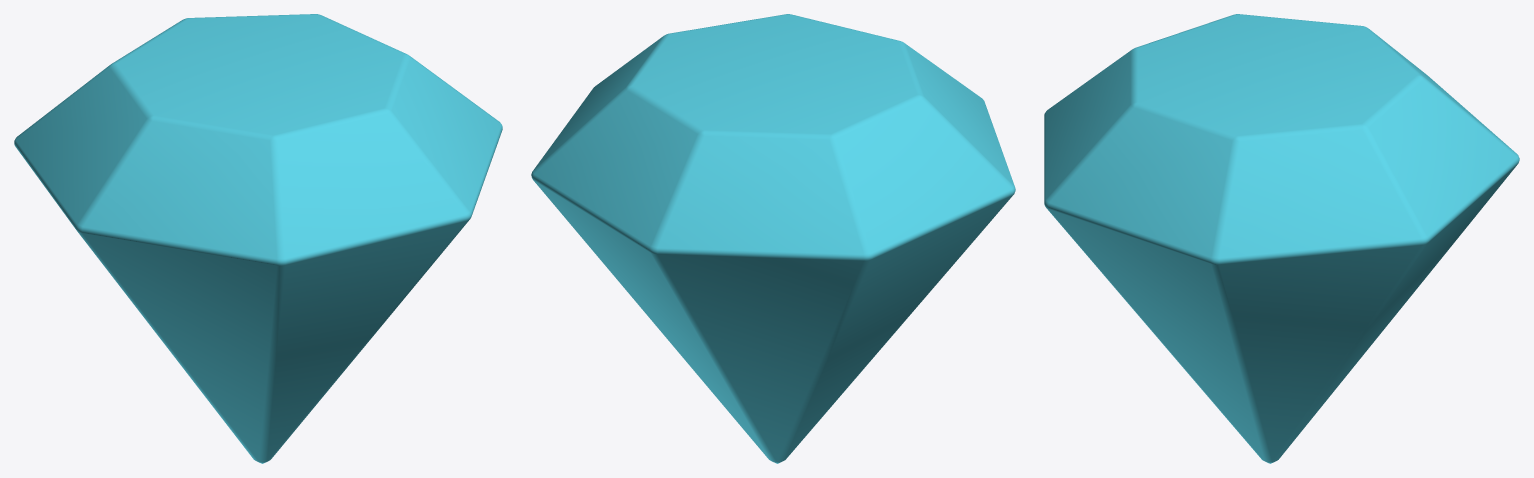
The model's file is Diamond.fbx.
The picture shows the model from 3 angles, left to right: view 1: azimuth 30°, elevation 25°; view 2: azimuth 150°, elevation 25°; view 3: azimuth 270°, elevation 25°; orthographic projection.
Parts seen in each view (by area): view 1: Cone; view 2: Cone; view 3: Cone.
Part boxes in pixels (<box>): Cone: <box>14,14,502,463</box>; Cone: <box>531,14,1015,463</box>; Cone: <box>1044,14,1519,463</box>.
Size of the model in its own units: 193 by 170 by 188.
